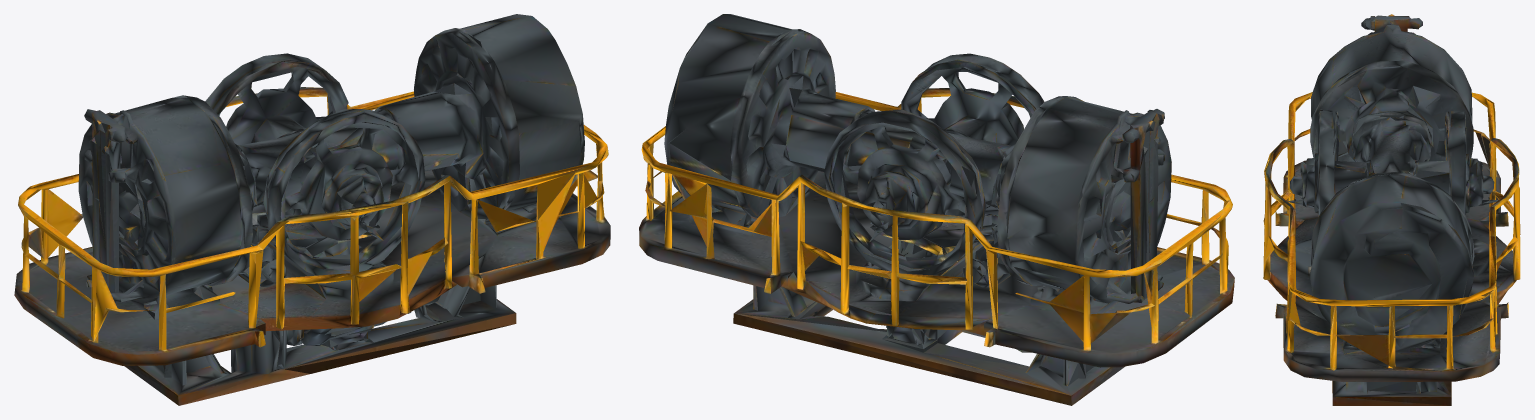
File: fv_bullwheel.glb
3 renders of one model, left to right at view 1: azimuth 30°, elevation 25°; view 2: azimuth 150°, elevation 25°; view 3: azimuth 270°, elevation 25°, orthographic. The views are drawn at different scales.
Visible parts, largest first — view 1: fv_bullwheel; view 2: fv_bullwheel; view 3: fv_bullwheel.
Boxes of the visible parts, x1,y1,x2,y2 form: fv_bullwheel: [14, 14, 610, 405]; fv_bullwheel: [639, 14, 1234, 405]; fv_bullwheel: [1263, 14, 1520, 405].
Size of the model in its own units: 5 by 2.52 by 2.52.
Materials: 1 (1 with a texture image).
